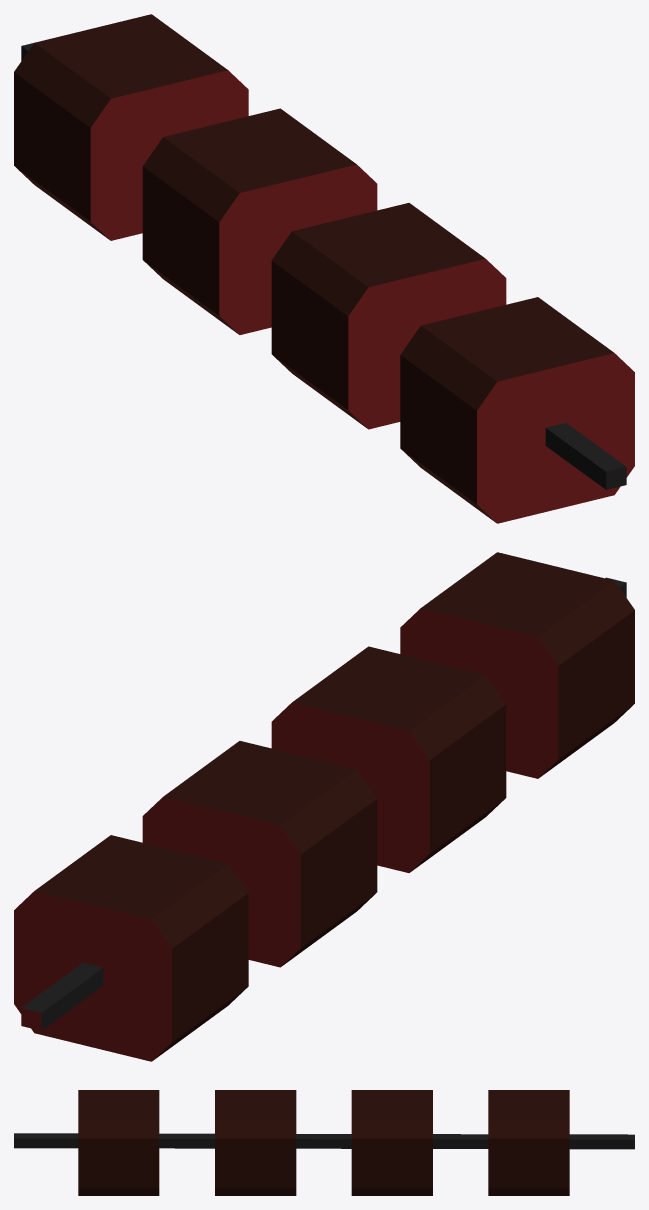
Rendered from Meat03.fbx.
The picture shows the model from 3 angles, top to bottom: view 1: azimuth 30°, elevation 25°; view 2: azimuth 150°, elevation 25°; view 3: azimuth 270°, elevation 25°; orthographic projection. The views are drawn at different scales.
Parts seen in each view (by area): view 1: Box004; view 2: Box004; view 3: Box004.
Boxes of the visible parts, bbox=[...] form: Box004: bbox=[14, 14, 634, 523]; Box004: bbox=[14, 552, 634, 1061]; Box004: bbox=[14, 1090, 634, 1195].
Bounding box in the file's own units: 4.58 × 3.93 × 29.34.
